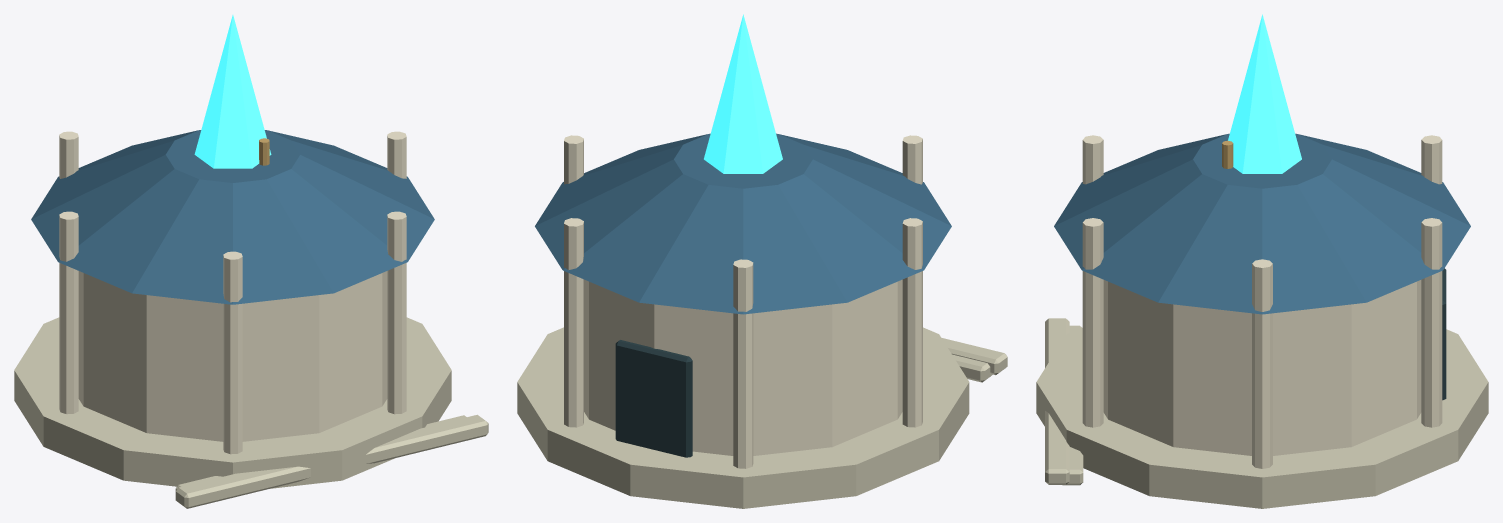
File: level_15.glb
3 renders of one model, left to right at view 1: azimuth 30°, elevation 25°; view 2: azimuth 150°, elevation 25°; view 3: azimuth 270°, elevation 25°, orthographic. The views are drawn at different scales.
Visible parts, largest first — view 1: mage_guild — level 15; view 2: mage_guild — level 15; view 3: mage_guild — level 15.
Part boxes in pixels (<box>): mage_guild — level 15: <box>14,15,488,508</box>; mage_guild — level 15: <box>517,14,1007,508</box>; mage_guild — level 15: <box>1036,14,1488,508</box>.
Bounding box in the file's own units: 5.2 × 5.07 × 5.2.
